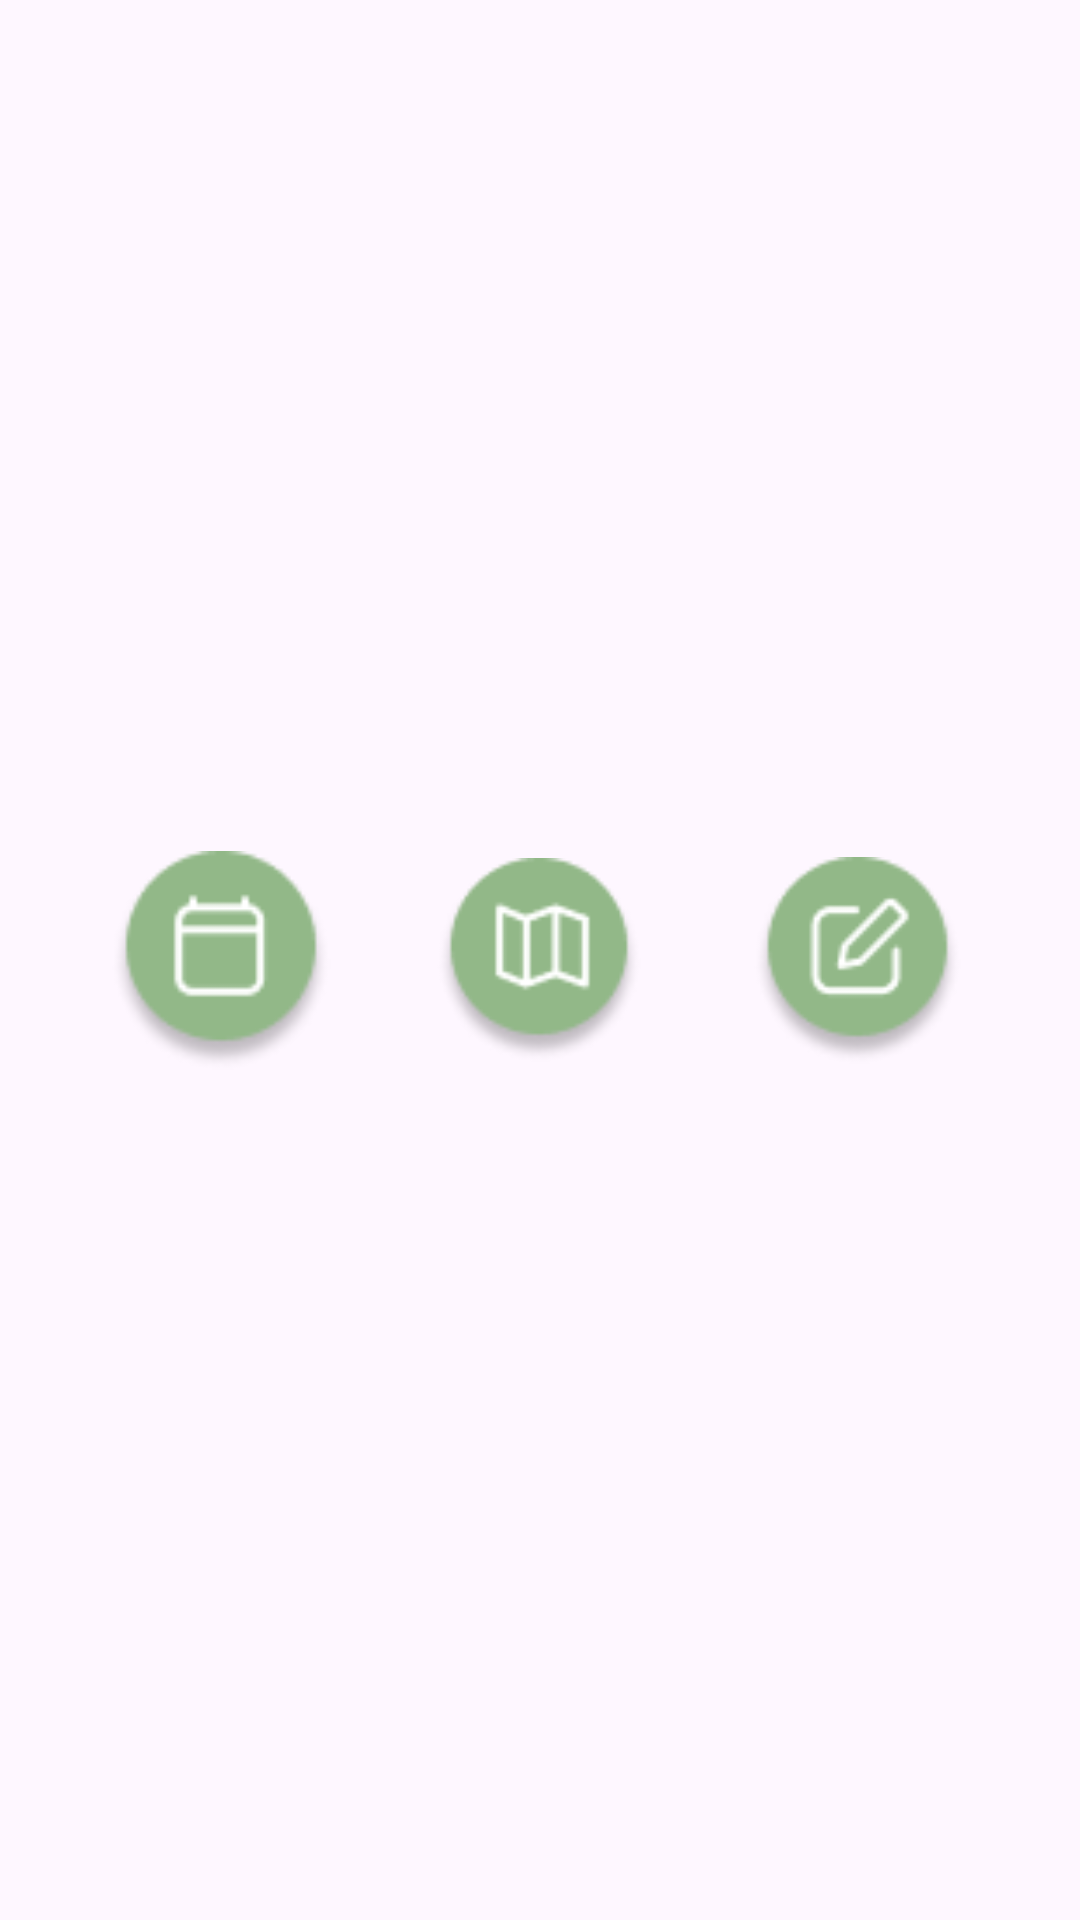

Icon bounding boxes for this 1080*1920 phone screenshot, format detection(x1, y1, x2, y2):
calendar: detection(125, 851, 317, 1057)
maps: detection(449, 858, 629, 1050)
notes: detection(766, 857, 949, 1052)
